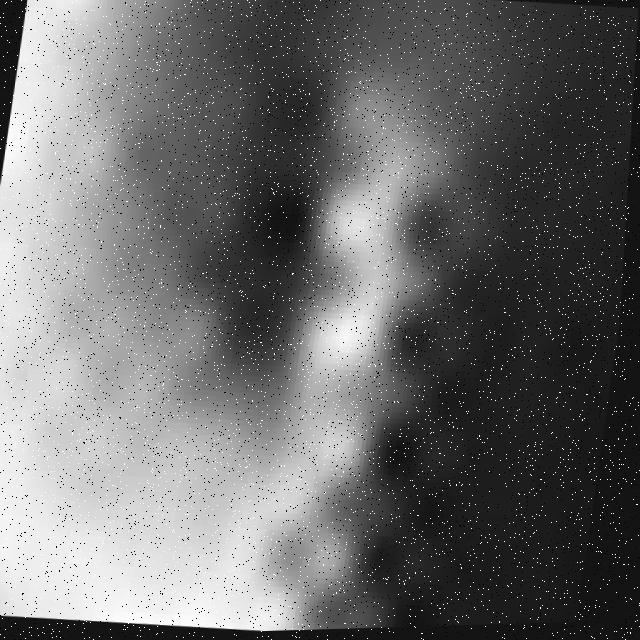person: (1, 1, 567, 640)
